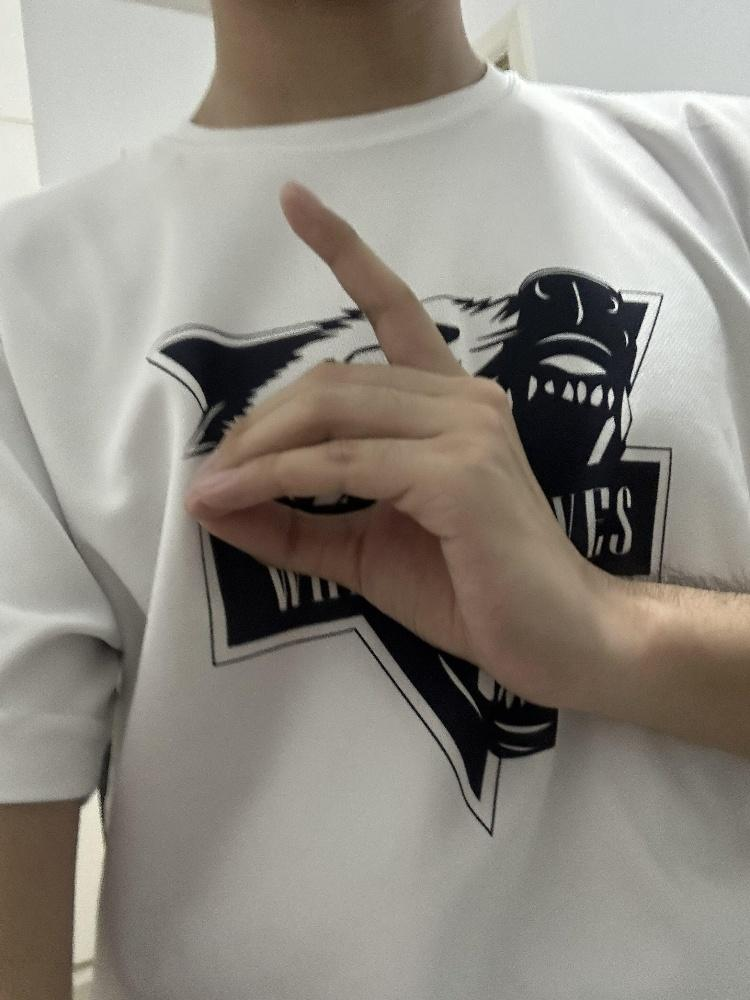d: (180, 177, 578, 708)
